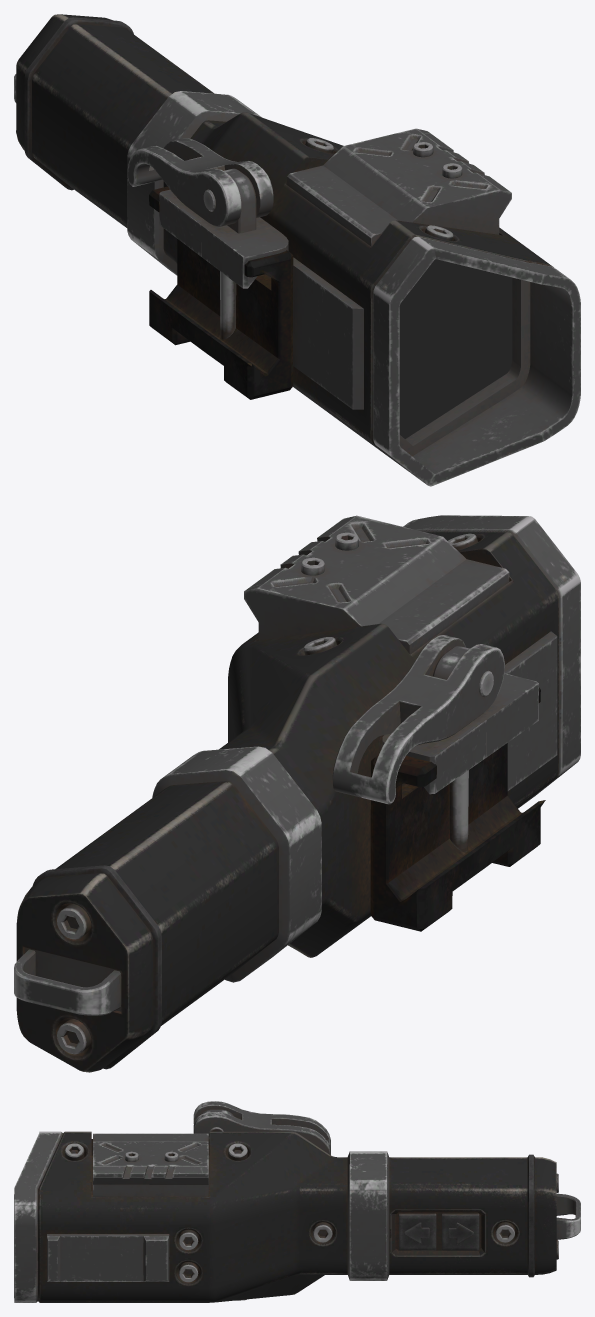
File: Flashlight_C.glb
The picture shows the model from 3 angles, top to bottom: view 1: azimuth 30°, elevation 25°; view 2: azimuth 150°, elevation 25°; view 3: azimuth 270°, elevation 25°; orthographic projection. The views are drawn at different scales.
Parts seen in each view (by area): view 1: Gun_Light_C, Gun_Light_Glass_C; view 2: Gun_Light_C; view 3: Gun_Light_C.
Part boxes in pixels (<box>): Gun_Light_C: <box>14,14,580,486</box>; Gun_Light_Glass_C: <box>399,259,512,438</box>; Gun_Light_C: <box>14,515,580,1072</box>; Gun_Light_C: <box>14,1101,580,1302</box>.
Bounding box in the file's own units: 0.0534 × 0.0528 × 0.16.
Materials: 2 (2 with a texture image).
